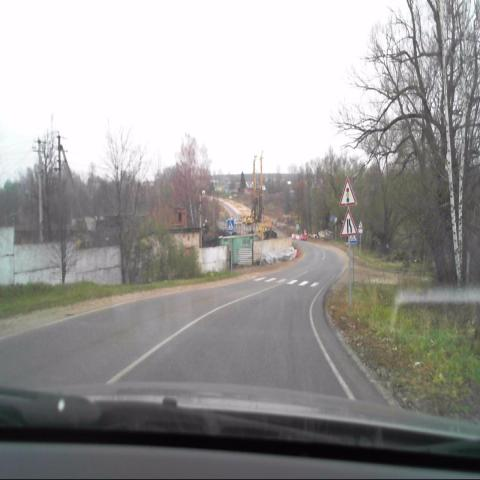1_8: (340, 178, 355, 204)
